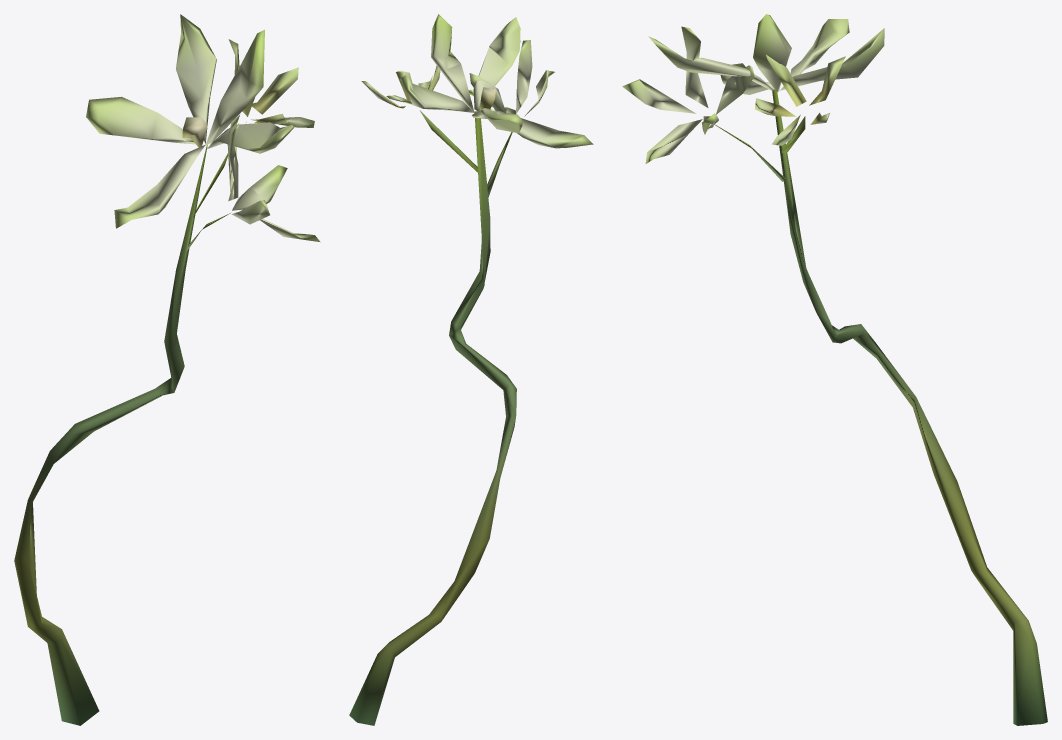
3 renders of one model, left to right at view 1: azimuth 30°, elevation 25°; view 2: azimuth 150°, elevation 25°; view 3: azimuth 270°, elevation 25°, orthographic. The views are drawn at different scales.
Visible parts, largest first — view 1: LOD 4_7598556c-190f-51c2-9c27-77094a5ef6d8; view 2: LOD 4_7598556c-190f-51c2-9c27-77094a5ef6d8; view 3: LOD 4_7598556c-190f-51c2-9c27-77094a5ef6d8.
Part boxes in pixels (<box>): LOD 4_7598556c-190f-51c2-9c27-77094a5ef6d8: <box>14,14,320,725</box>; LOD 4_7598556c-190f-51c2-9c27-77094a5ef6d8: <box>349,14,593,725</box>; LOD 4_7598556c-190f-51c2-9c27-77094a5ef6d8: <box>622,14,1047,725</box>.
Size of the model in its own units: 4.94 by 15.47 by 8.12.
